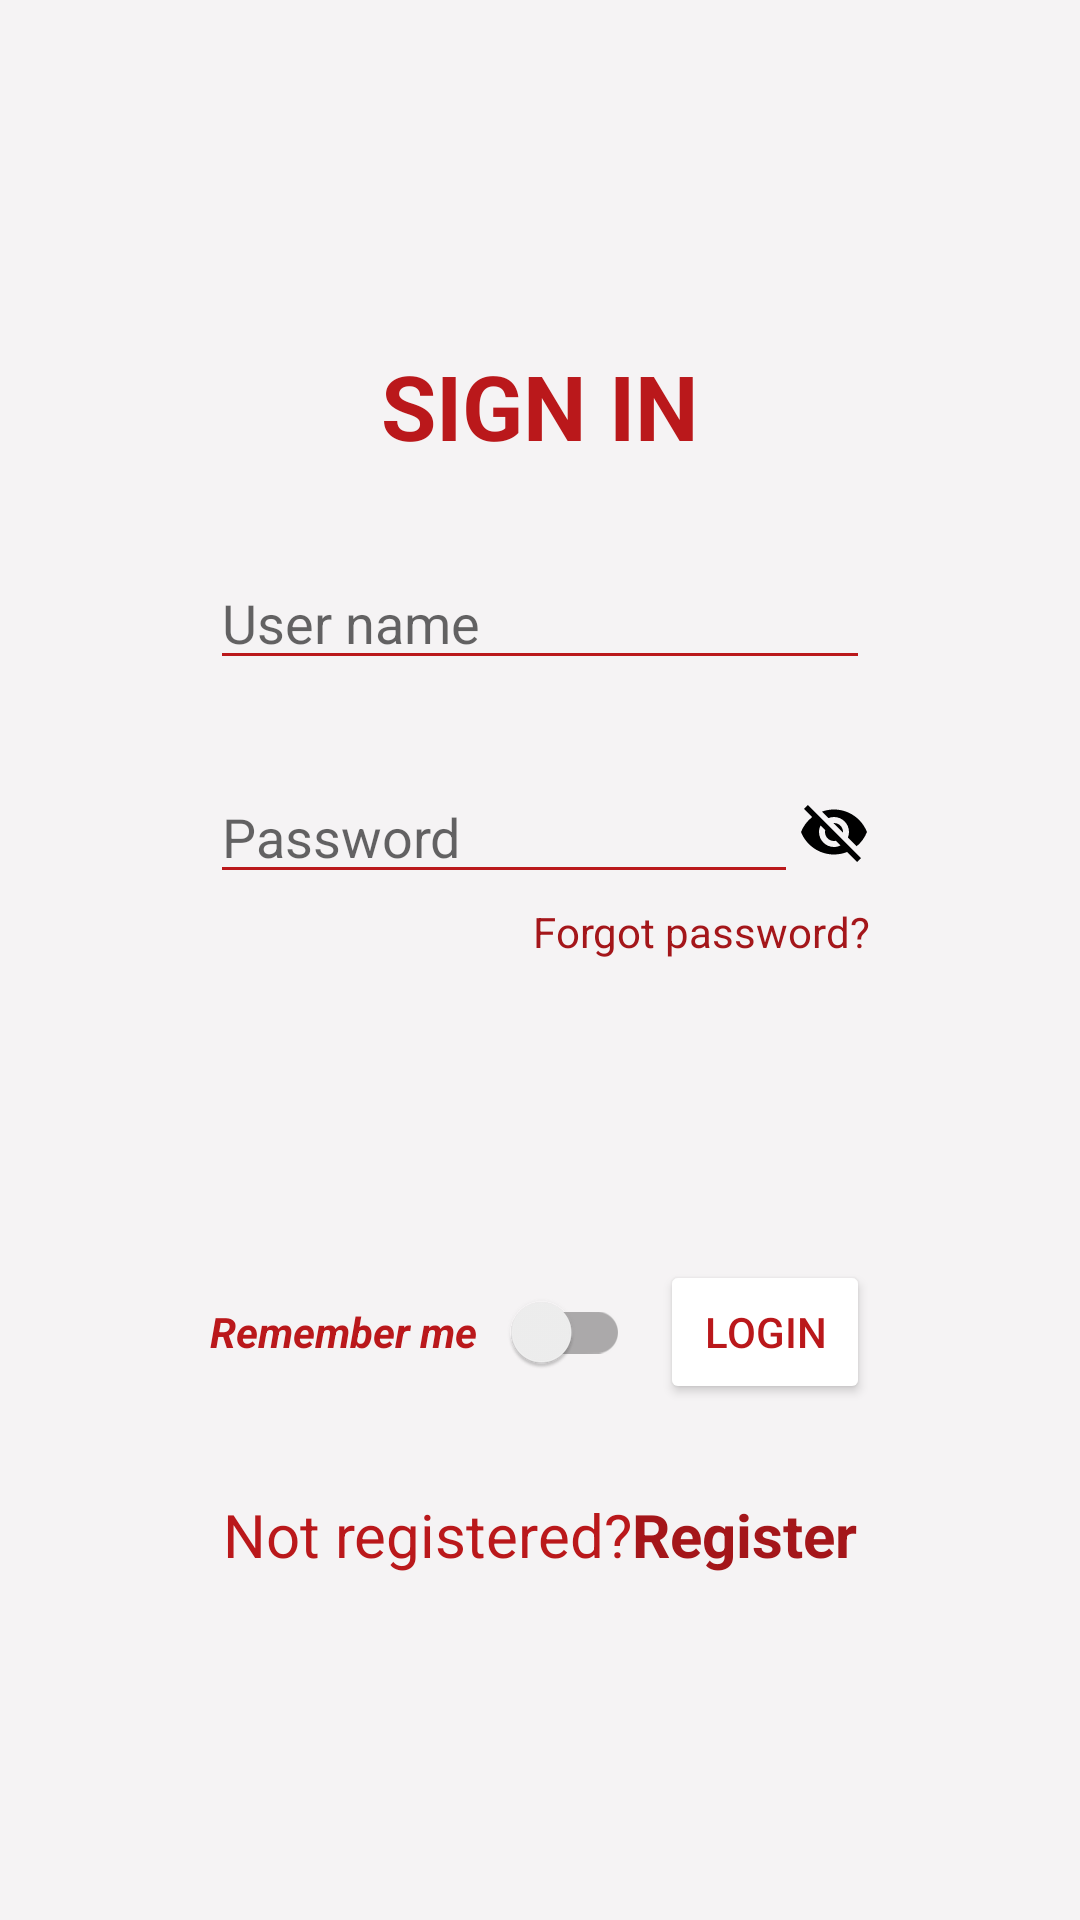

Icons on this 1080 x 1920 Android screen, each with the point to tap as (x=x, y=y):
invisible: (x=834, y=833)
